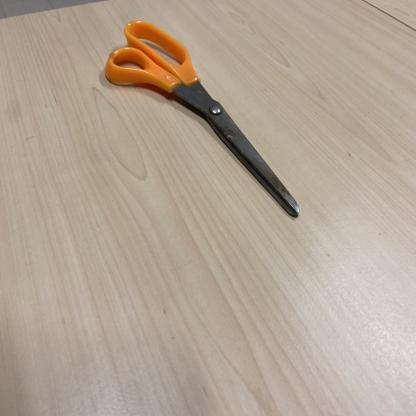scissors: (104, 19, 302, 219)
